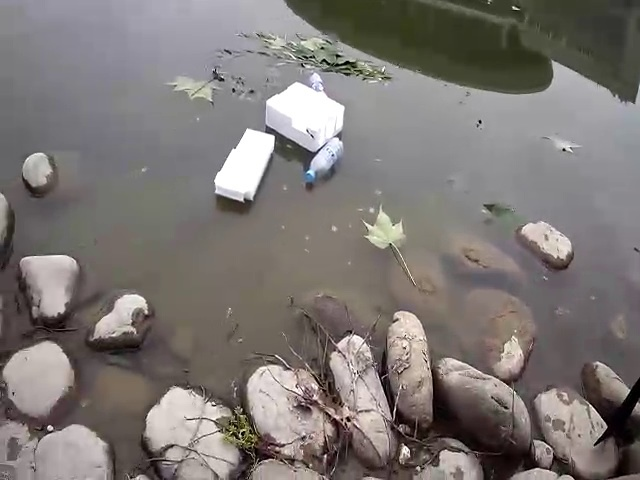bottle: (302, 136, 347, 185), (303, 67, 332, 97)
leaf: (239, 23, 395, 82), (159, 64, 226, 105), (357, 211, 406, 249), (478, 193, 521, 222), (540, 131, 583, 155)
paomo: (269, 80, 344, 148), (216, 126, 274, 208)
